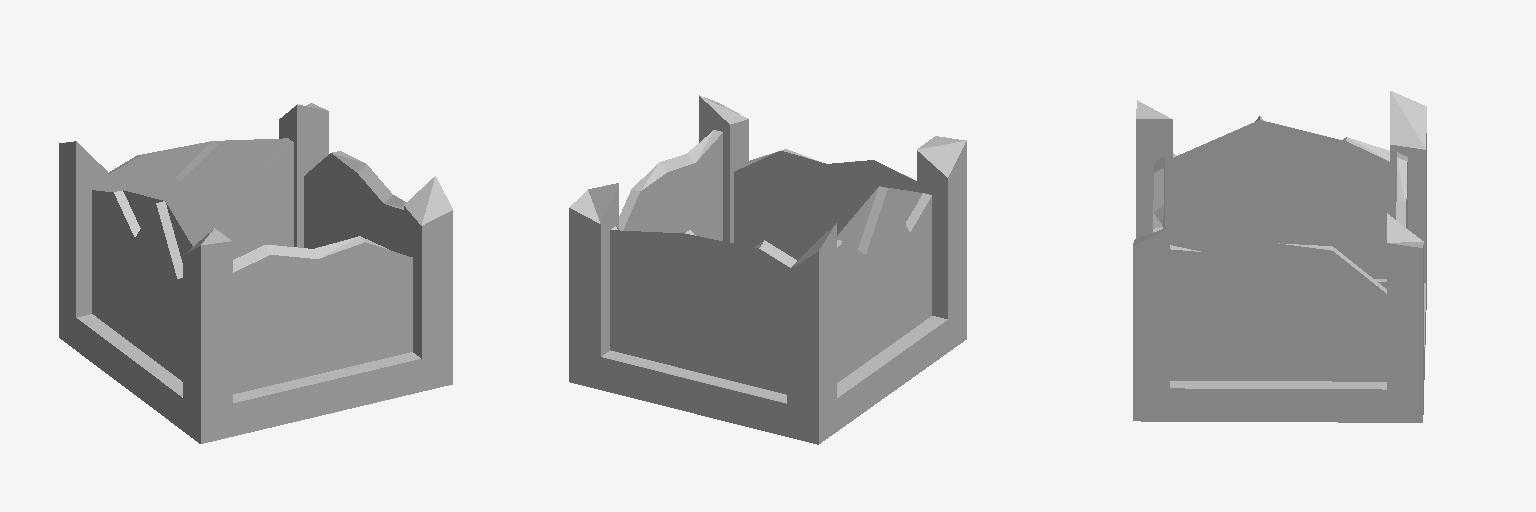
File: crate_2_003.obj
The picture shows the model from 3 angles: view 1: azimuth 30°, elevation 25°; view 2: azimuth 150°, elevation 25°; view 3: azimuth 270°, elevation 25°; orthographic projection.
Visible parts, largest first — view 1: Crate_Broken_1_Plane.001; view 2: Crate_Broken_1_Plane.001; view 3: Crate_Broken_1_Plane.001.
Part boxes in pixels (bbox=[...]): Crate_Broken_1_Plane.001: bbox=[59, 103, 452, 443]; Crate_Broken_1_Plane.001: bbox=[569, 95, 966, 444]; Crate_Broken_1_Plane.001: bbox=[1133, 91, 1426, 422].
Size of the model in its own units: 0.8382 by 0.6611 by 0.8382.